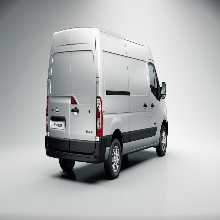no damage: (46, 28, 169, 178)
